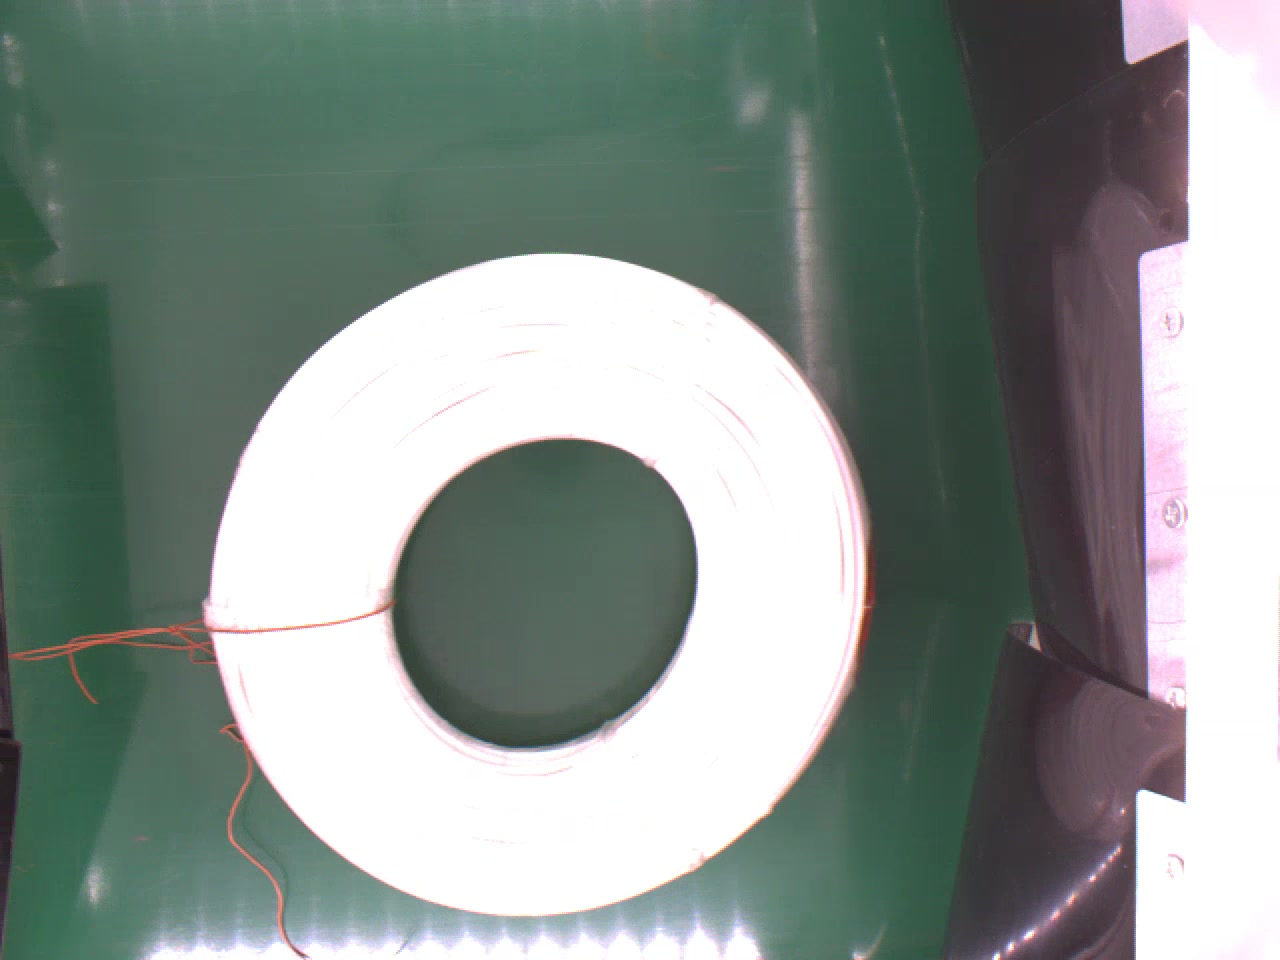white: (202, 241, 888, 918)
